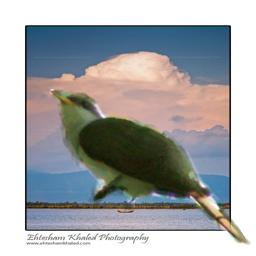Cuckoo: (46, 89, 251, 245)
